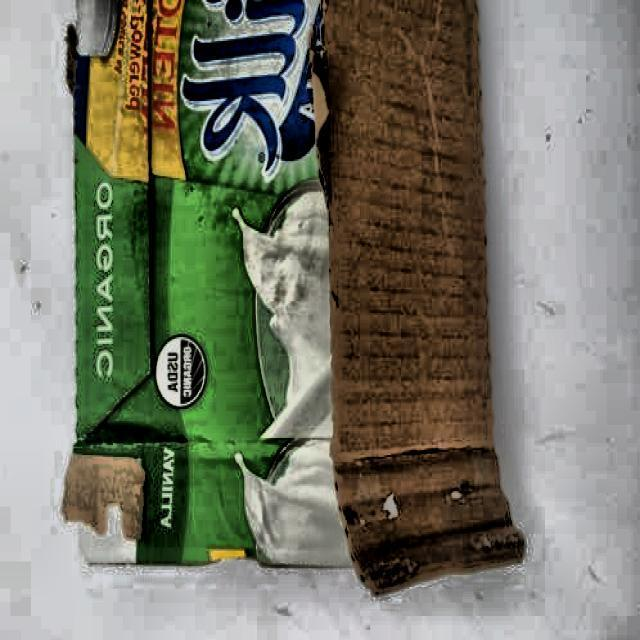cardboard: (61, 0, 526, 597)
